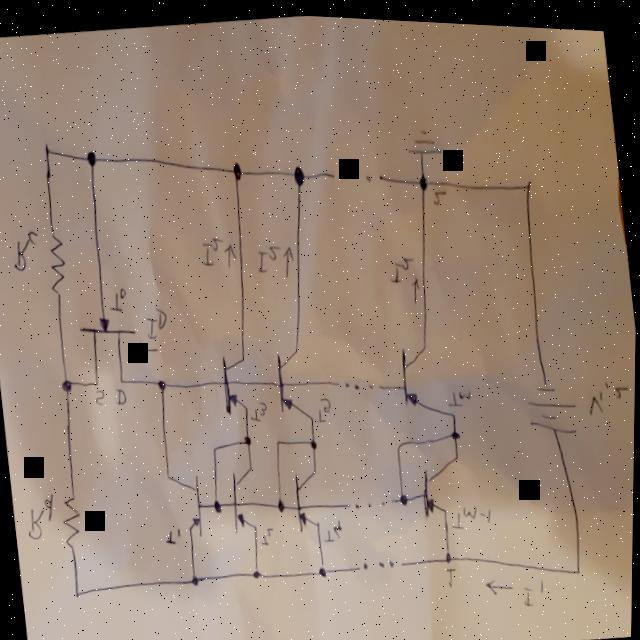ground: (403, 119, 445, 159)
junction: (289, 159, 309, 188), (59, 373, 77, 398), (83, 146, 100, 171), (229, 158, 245, 182), (156, 374, 170, 394), (417, 169, 430, 189), (398, 486, 411, 504), (213, 494, 225, 513), (449, 421, 462, 438), (42, 139, 53, 159), (276, 494, 288, 511), (317, 561, 330, 576), (73, 586, 85, 602), (252, 564, 264, 579), (191, 571, 203, 586), (523, 171, 535, 186), (243, 431, 254, 446), (394, 435, 405, 450), (309, 434, 319, 448), (445, 546, 454, 560), (574, 559, 583, 573), (211, 441, 219, 454), (275, 434, 283, 445)
resistor: (45, 226, 71, 300), (59, 491, 87, 551)
source: (521, 372, 583, 437)
text: (582, 367, 636, 420), (23, 488, 62, 544), (449, 496, 496, 530), (10, 229, 44, 275), (254, 235, 285, 278), (385, 245, 418, 285), (519, 569, 553, 607), (141, 303, 171, 341), (200, 230, 226, 270), (445, 378, 476, 410), (322, 513, 347, 545), (108, 285, 130, 313), (316, 392, 336, 422), (428, 180, 452, 205), (164, 520, 186, 547), (251, 397, 270, 422), (261, 523, 277, 546), (445, 563, 459, 585), (115, 384, 129, 405), (94, 385, 107, 407)
transistor: (77, 305, 144, 396), (395, 328, 460, 420), (165, 459, 211, 543), (270, 339, 314, 420), (224, 456, 264, 536), (415, 453, 463, 519), (288, 457, 327, 532), (214, 348, 253, 419)
